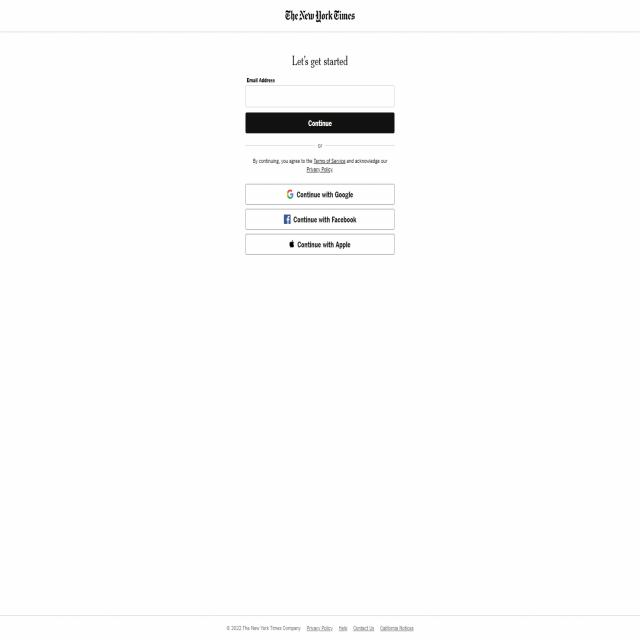menu-bar: (304, 620, 417, 634)
